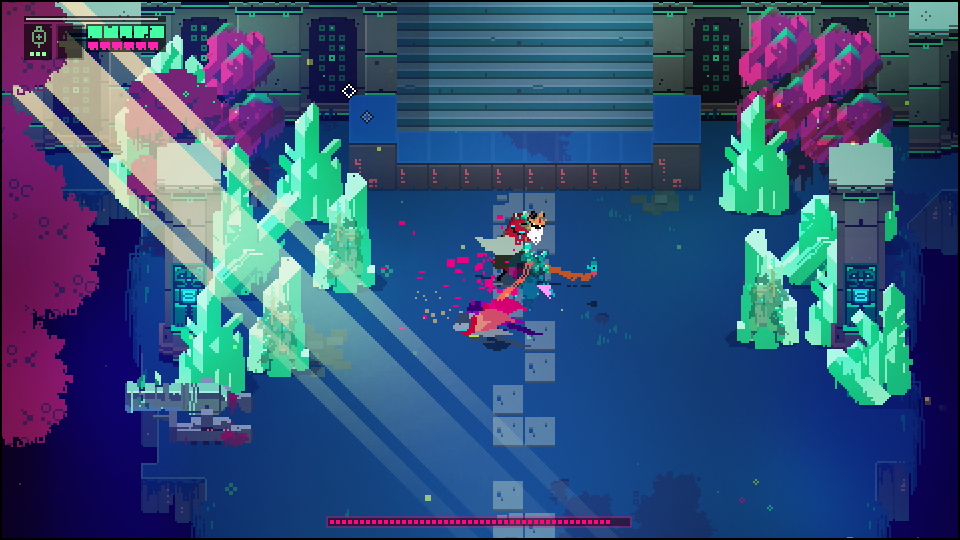hanged_man: (472, 207, 561, 294)
player: (446, 303, 524, 344)
